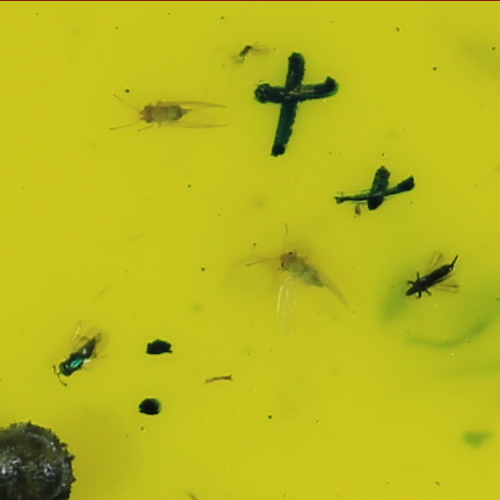psylla: (273, 246, 324, 288), (136, 97, 192, 121)
wasp: (57, 329, 104, 376)
